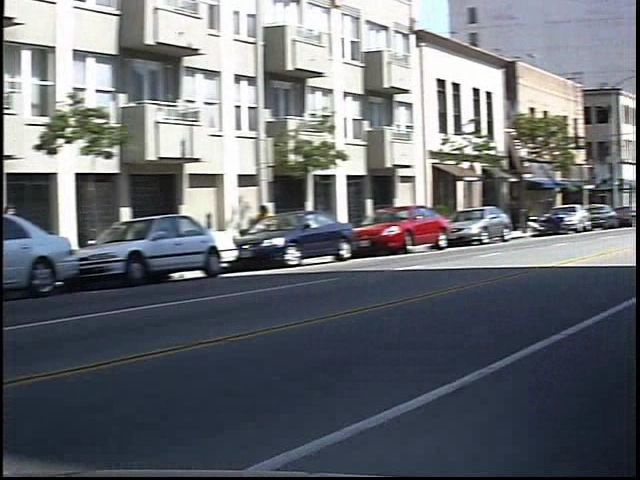person: (14, 199, 33, 266)
